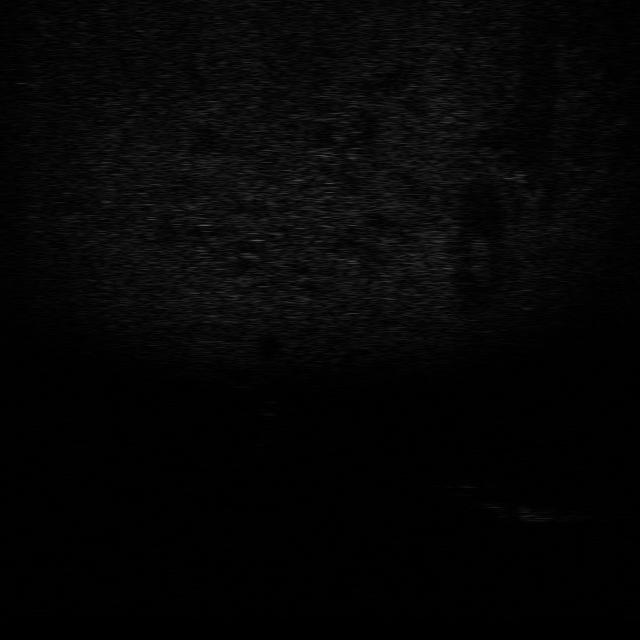ball: (254, 398, 288, 419)
metal bucket: (499, 499, 580, 524)
tyre: (436, 474, 499, 507)
